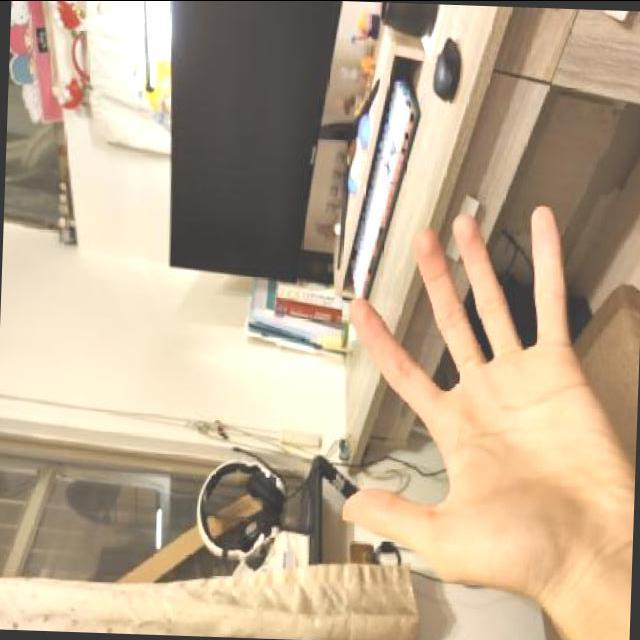Hand: (329, 202, 632, 596)
